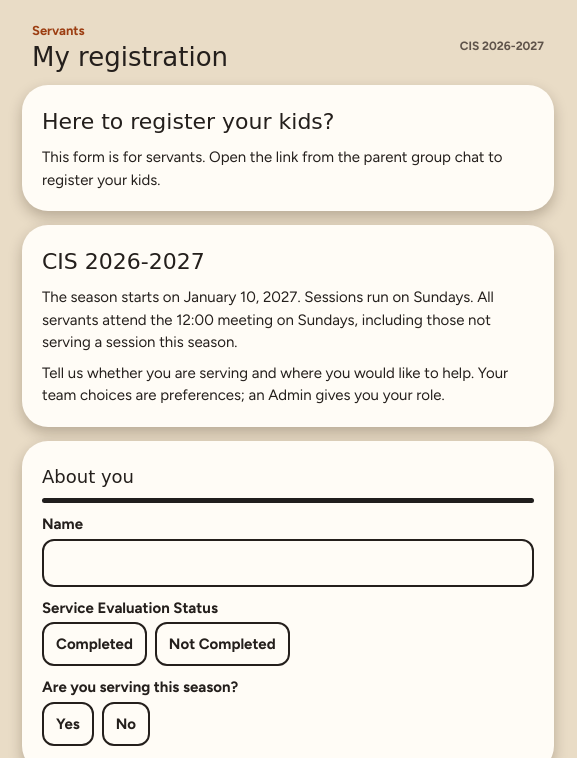
servant registration form › asks for teams only for the sessions that were ticked
This screenshot has width=577, height=758.
Click the radio button labelled "Yes".
click(68, 724)  # box [42,702,94,746]
(page scrolled)
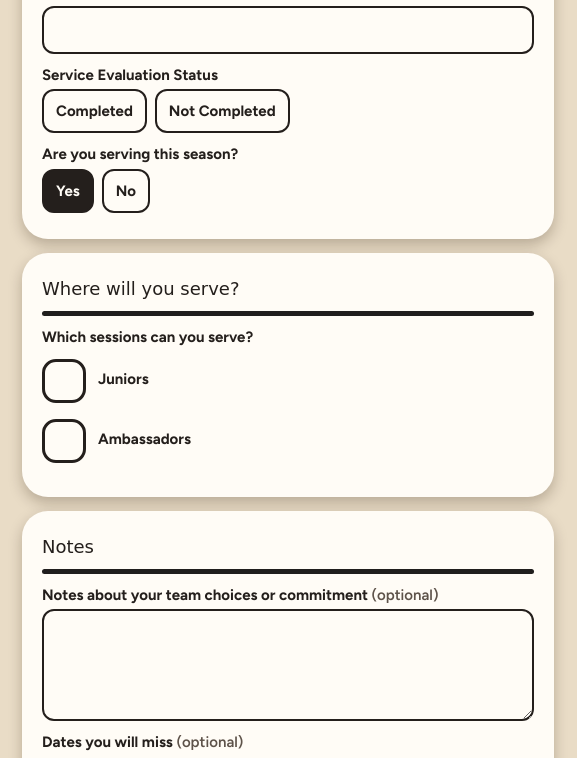
Expected: the text "Juniors: which teams" is not shown
Click the checkbox labelled "Juniors".
click(95, 381)  # box [42,359,149,403]
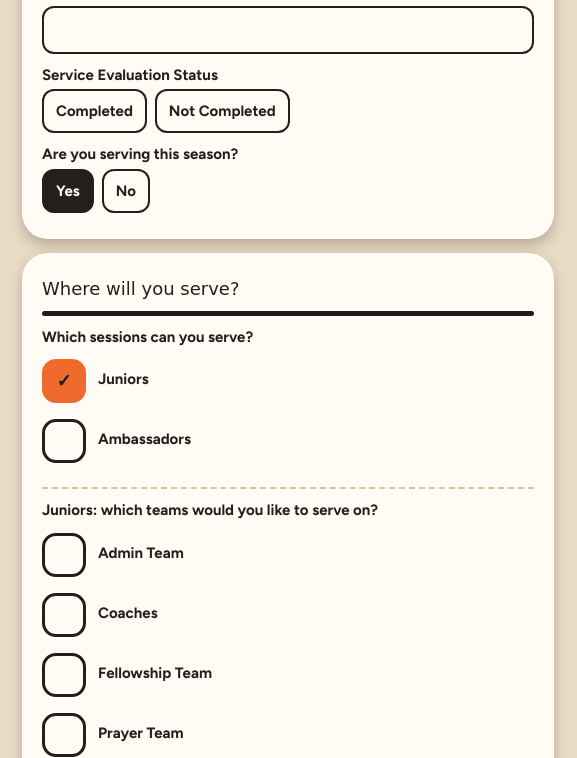
Expected: the text "Juniors: which teams would you like to serve on?" is shown, [42,501,378,521]
